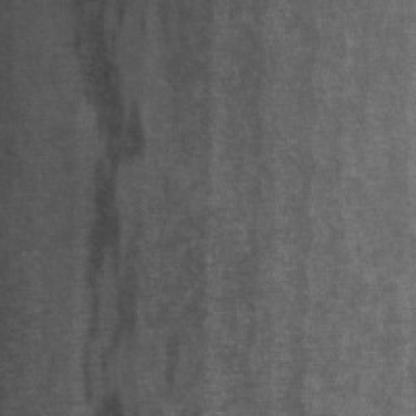inclusion: (60, 2, 144, 408)
